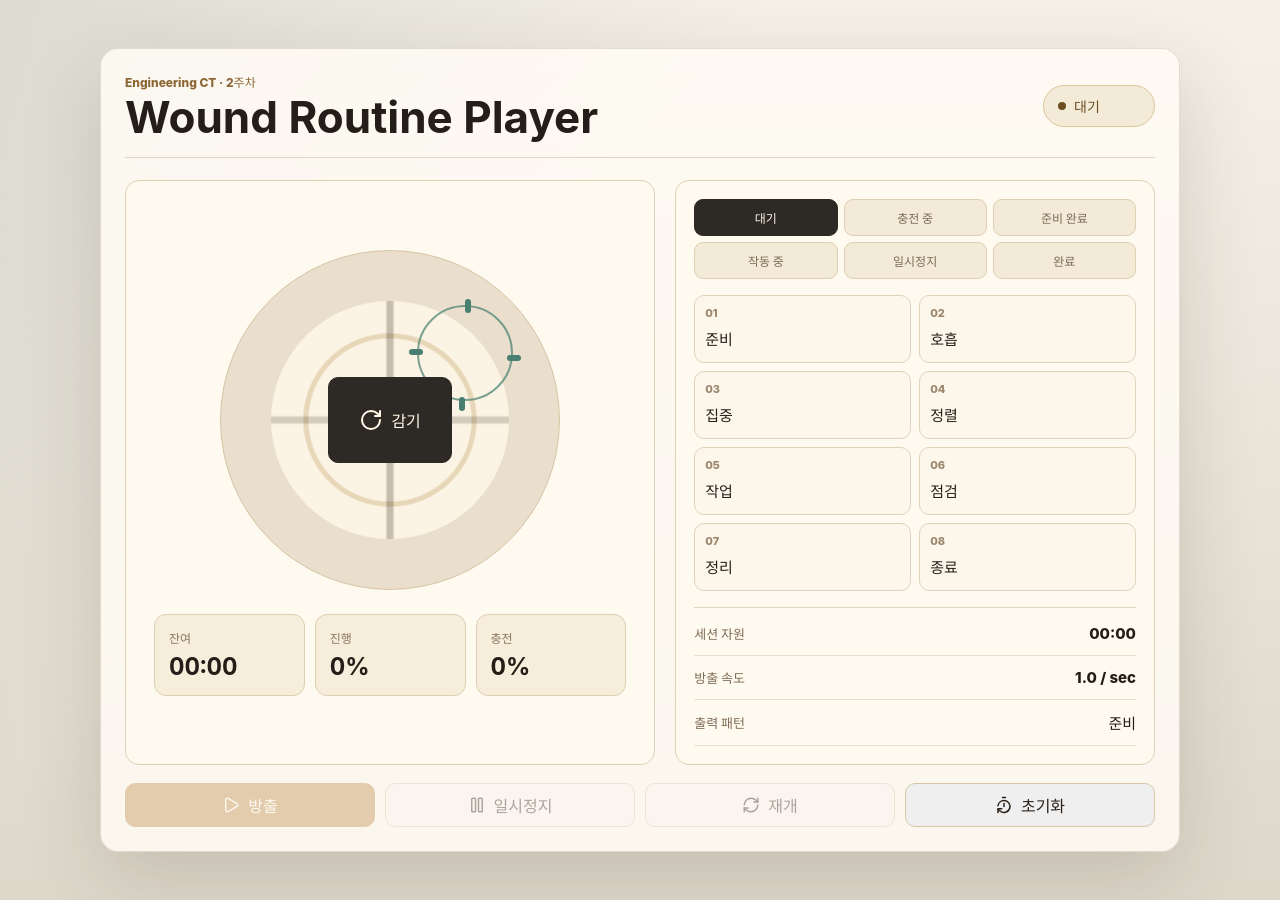
Wound Routine Player UI › connects wind, release, pause, resume, and reset controls
Click the button "감기" at (390, 420), box [328,376,452,462]
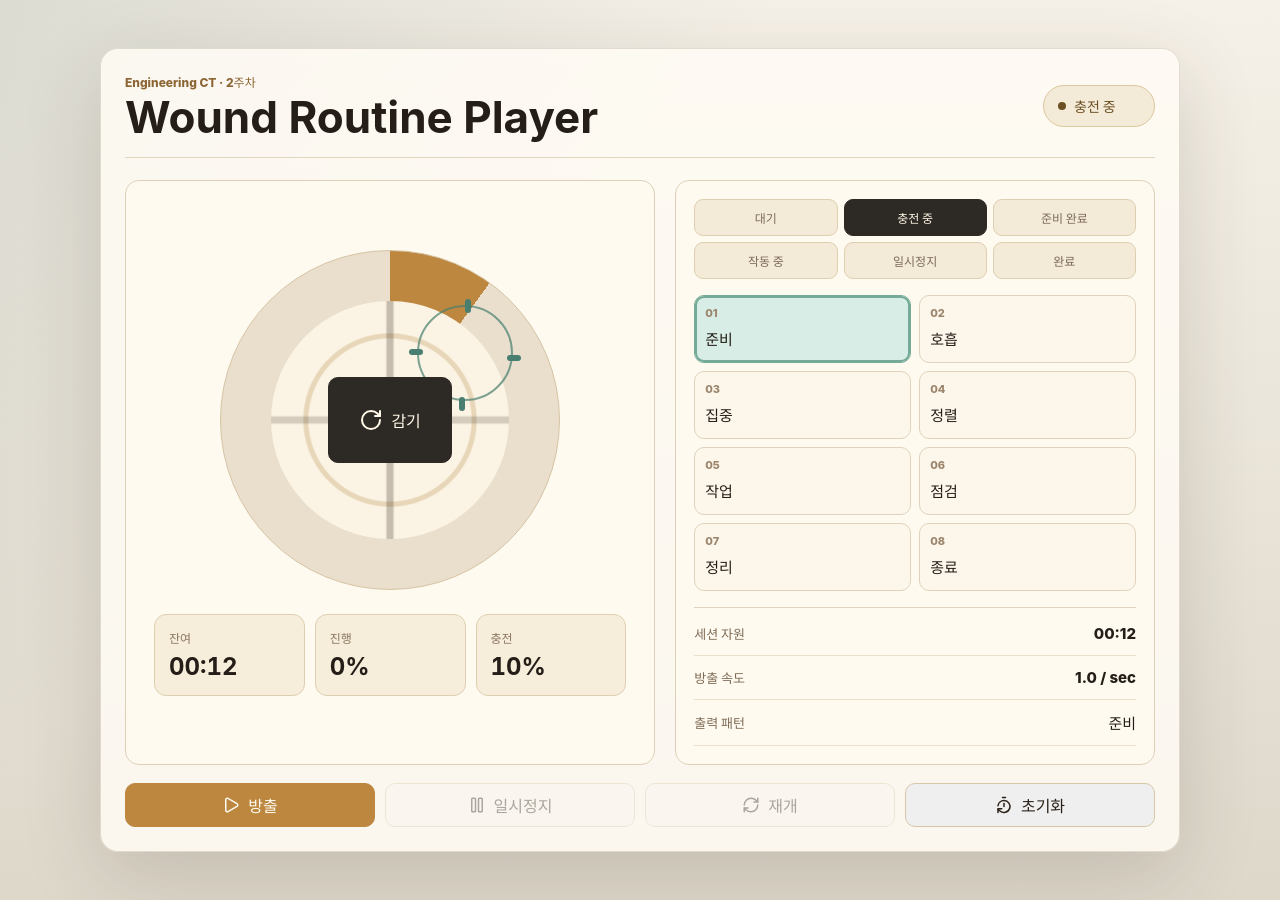
Check: the text "충전 중" in the row of "Wound Routine Player" is shown, box [1074,98,1116,115]
Check: the text "00:12" below "잔여" is shown, box [169,652,238,680]
Click the button "방출" at (250, 805), box [125,783,375,827]
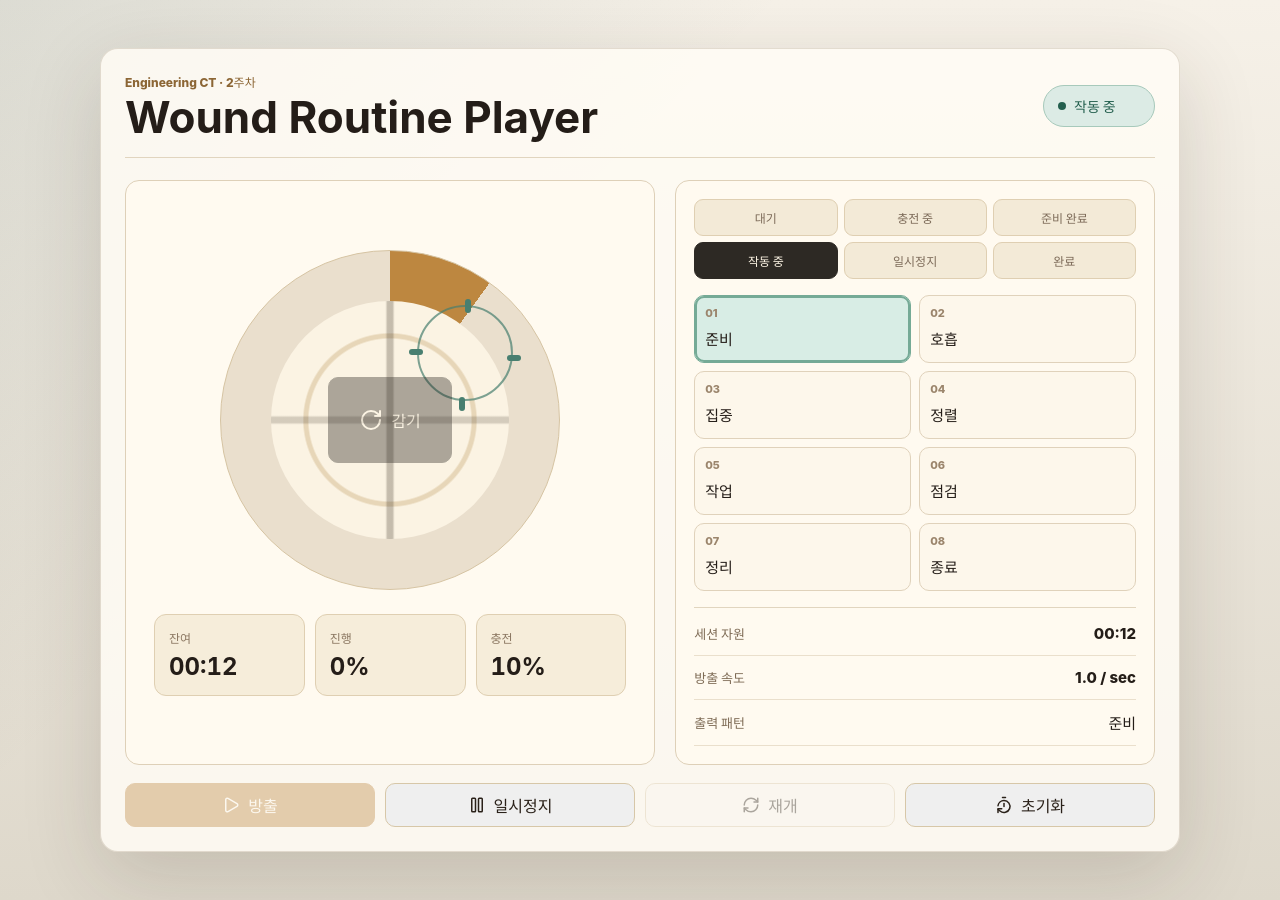
Check: the text "작동 중" in the row of "Wound Routine Player" is shown, box [1074,98,1116,115]
Click the button "일시정지" at (510, 805), box [385,783,635,827]
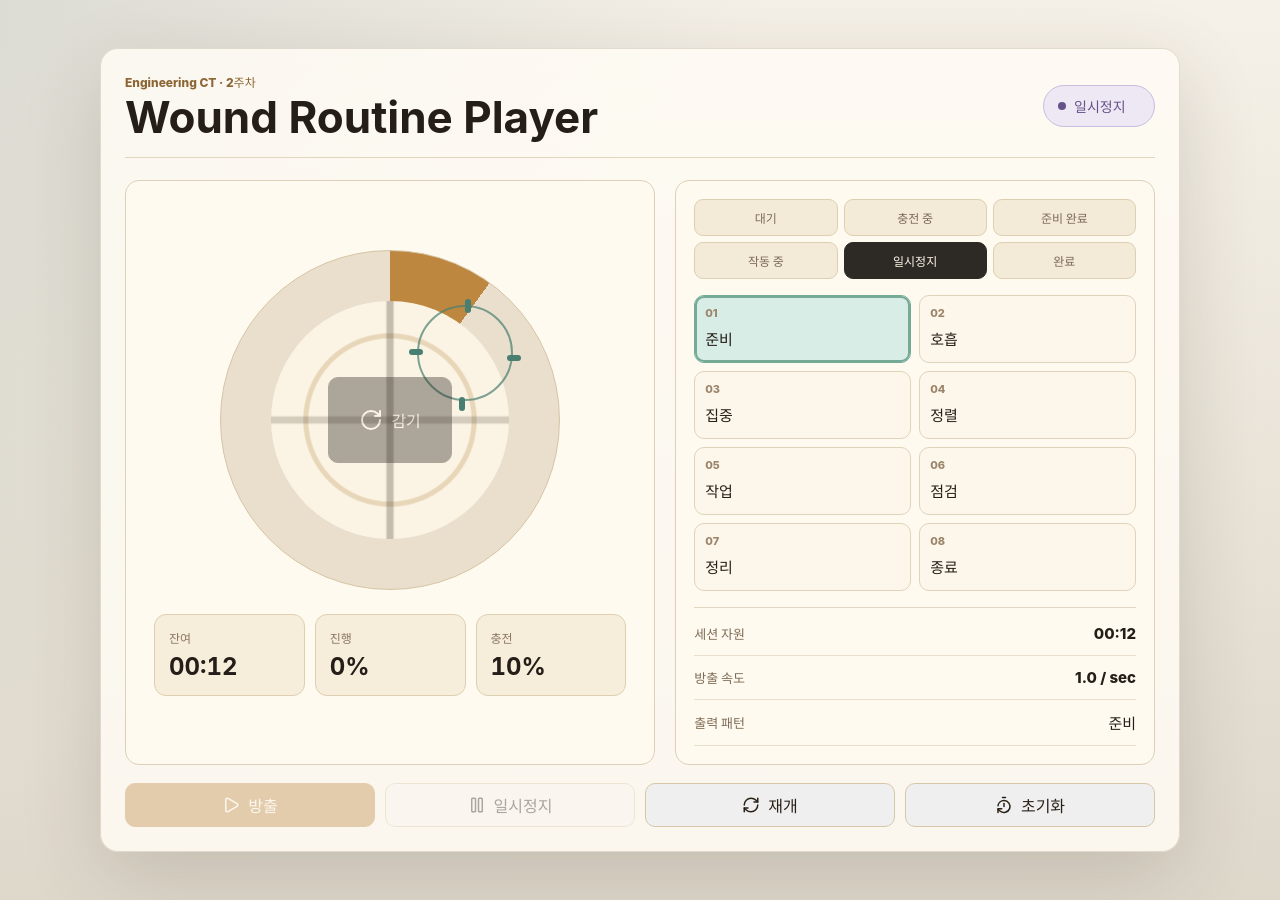
Check: the text "일시정지" in the row of "Wound Routine Player" is shown, box [1074,98,1126,115]
Click the button "재개" at (770, 805), box [645,783,895,827]
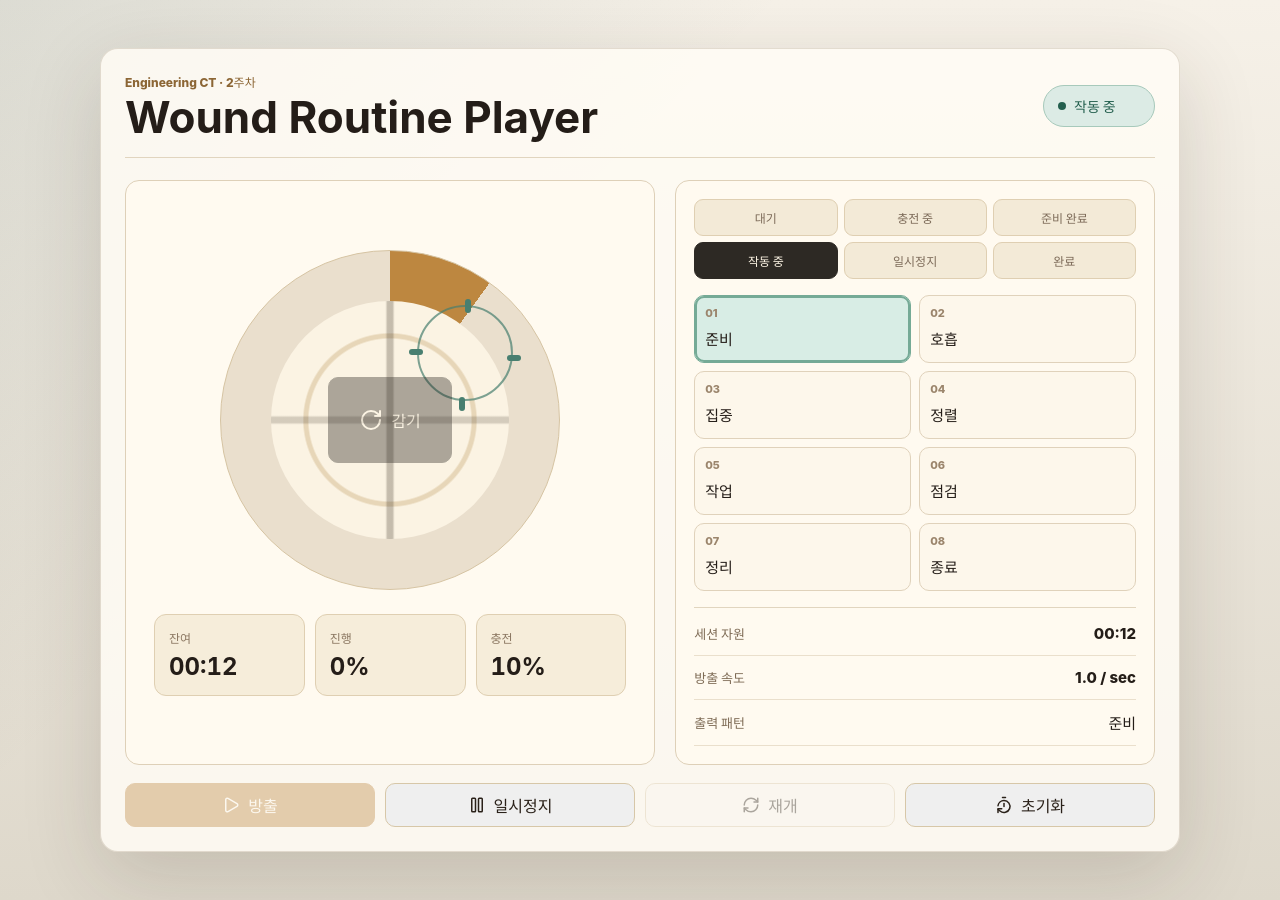
Check: the text "작동 중" in the row of "Wound Routine Player" is shown, box [1074,98,1116,115]
Click the button "초기화" at (1030, 805), box [905,783,1155,827]
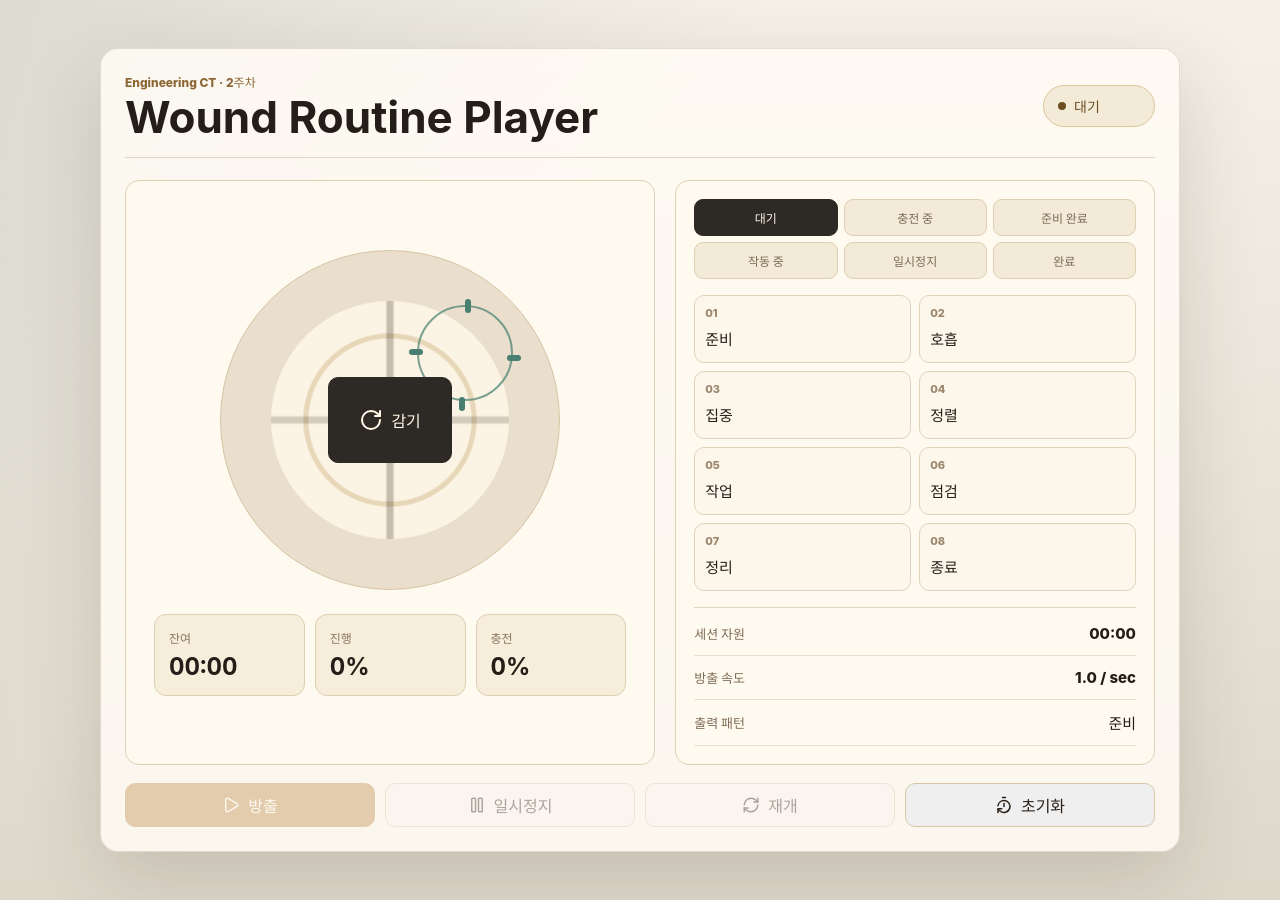
Check: the text "대기" in the row of "Wound Routine Player" is shown, box [1074,98,1100,115]
